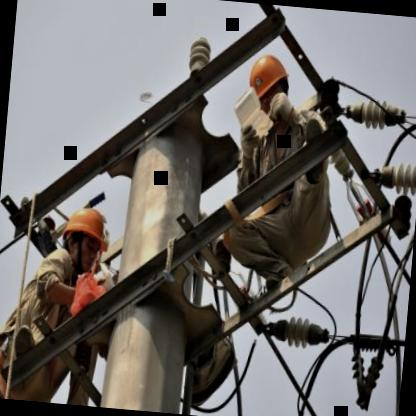helmet: (56, 203, 114, 282), (244, 46, 298, 128)
